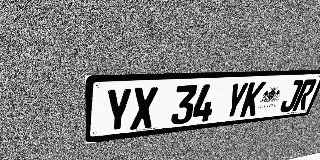3: (170, 85, 198, 125)
4: (191, 84, 219, 123)
J: (278, 80, 304, 113)
K: (239, 81, 266, 117)
R: (292, 79, 318, 111)
X: (130, 87, 158, 130)
Y: (104, 88, 133, 133), (222, 82, 250, 119)
